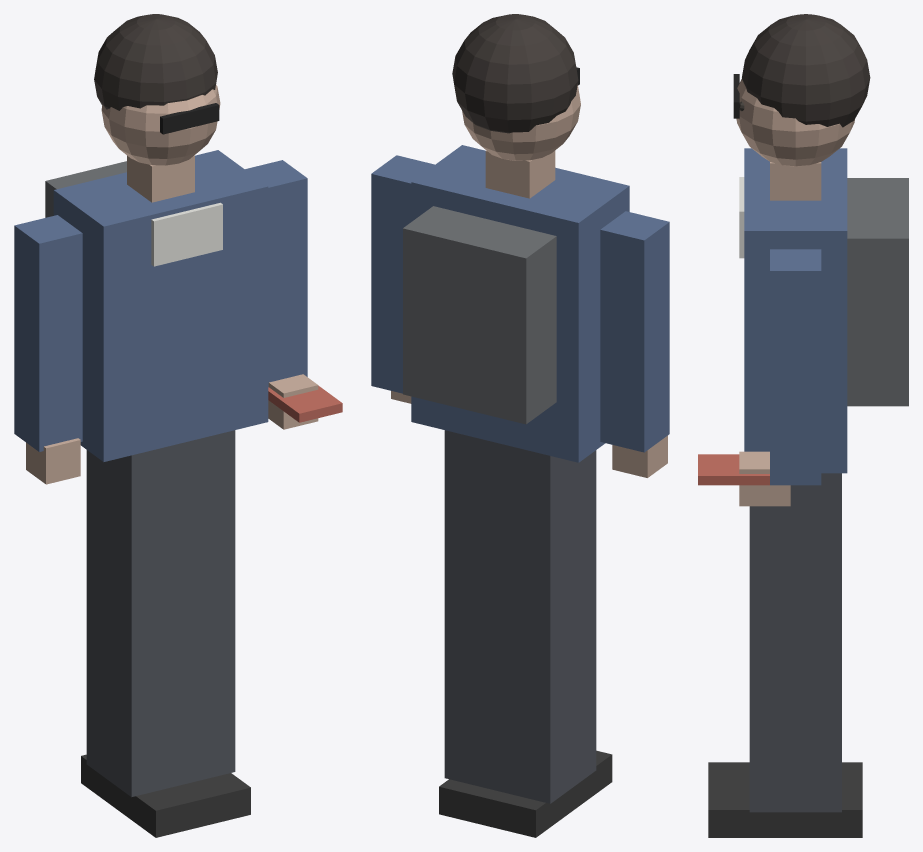
Rendered from SM_XuZhixia.fbx.
The picture shows the model from 3 angles, left to right: view 1: azimuth 30°, elevation 25°; view 2: azimuth 150°, elevation 25°; view 3: azimuth 270°, elevation 25°; orthographic projection. The views are drawn at different scales.
Parts seen in each view (by area): view 1: Legs, Torso, Arm_L, Hair, Arm_R, Shoes, Head, Shirt, Neck, Hand_L, Notebook, Hand_R (+2 smaller); view 2: Legs, Backpack, Torso, Arm_L, Hair, Arm_R, Shoes, Head, Neck, Hand_L; view 3: Legs, Torso, Backpack, Arm_R, Hair, Shoes, Head, Neck, Hand_R, Notebook, Shirt.
Part boxes in pixels (box(x1,y1,x2,y2)): Legs: box(86, 430, 235, 797); Torso: box(53, 150, 268, 461); Arm_L: box(14, 215, 82, 451); Hair: box(94, 14, 217, 110); Arm_R: box(245, 160, 307, 386); Shoes: box(81, 754, 250, 837); Head: box(101, 84, 220, 165); Shirt: box(151, 202, 222, 266); Neck: box(127, 155, 194, 202); Hand_L: box(26, 438, 80, 484); Notebook: box(268, 385, 342, 422); Hand_R: box(268, 374, 318, 429); Legs: box(444, 430, 596, 803); Backpack: box(403, 206, 556, 424); Torso: box(411, 145, 629, 462); Arm_L: box(600, 211, 669, 452); Hair: box(452, 14, 578, 133); Arm_R: box(371, 155, 434, 393); Shoes: box(439, 750, 612, 837); Head: box(462, 85, 580, 160); Neck: box(485, 150, 555, 198); Hand_L: box(612, 435, 667, 477); Legs: box(749, 473, 841, 812); Torso: box(744, 148, 847, 473); Backpack: box(847, 178, 908, 406); Arm_R: box(770, 249, 821, 485); Hair: box(742, 14, 870, 127); Shoes: box(708, 762, 862, 837); Head: box(736, 79, 854, 166); Neck: box(770, 162, 821, 200); Hand_R: box(739, 451, 790, 506); Notebook: box(698, 454, 769, 485); Shirt: box(739, 177, 744, 258).
Bounding box in the file's own units: 62 × 41 × 170.
